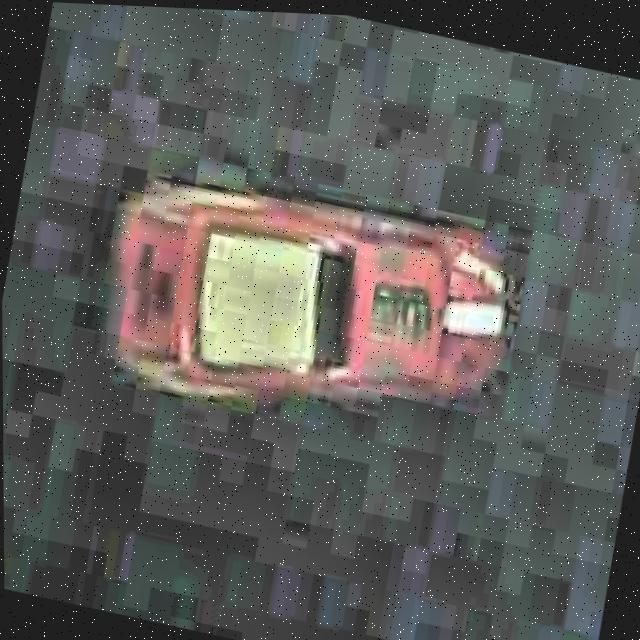car: (83, 145, 541, 476)
